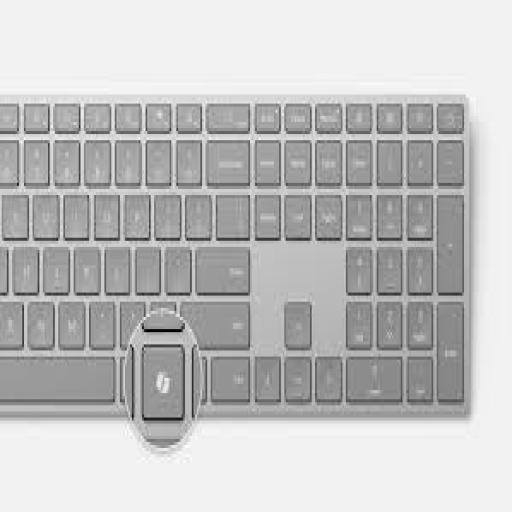keyboard: (1, 97, 467, 417)
